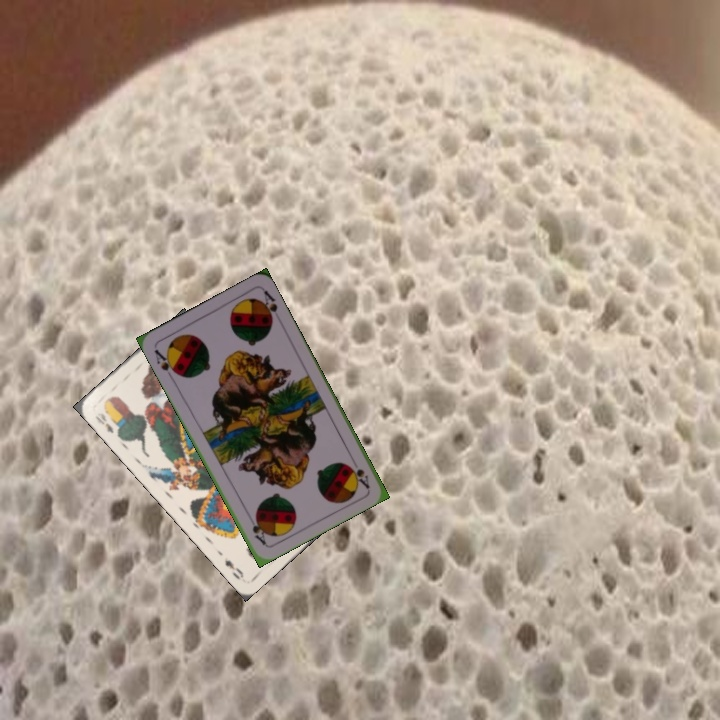EO: (91, 409, 117, 436)
SA: (150, 345, 181, 382), (345, 461, 372, 491)
